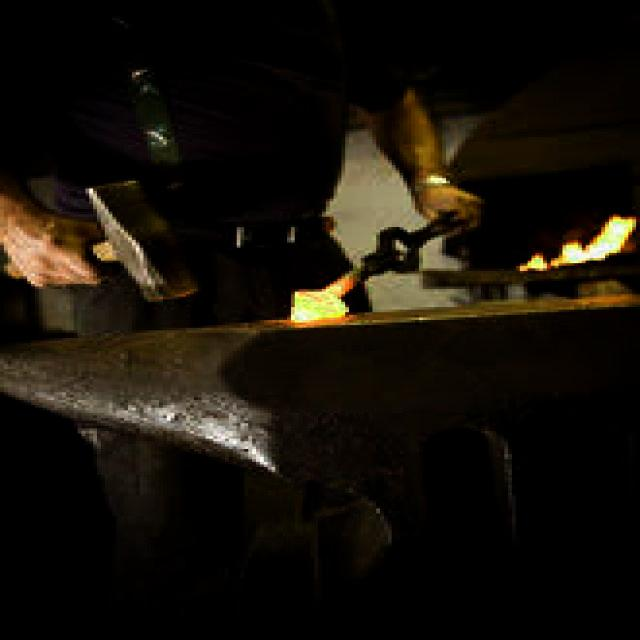hammer: (0, 170, 198, 304)
